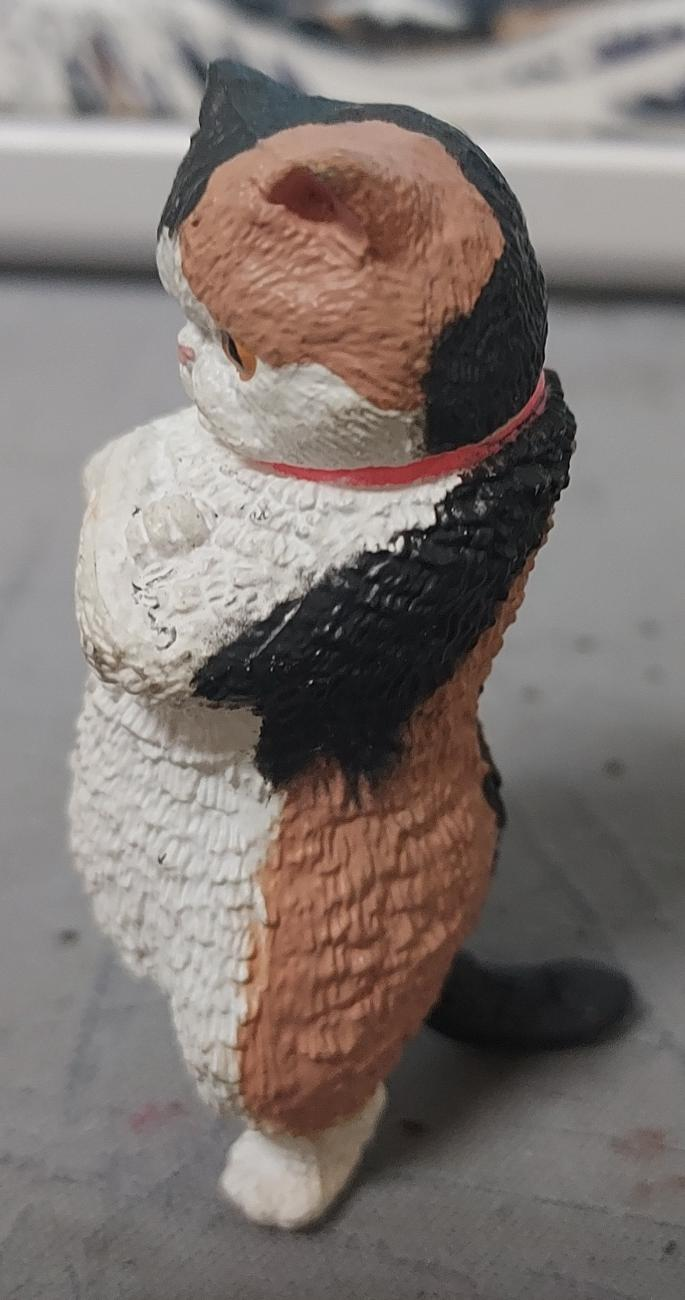cat: (0, 1, 685, 1300)
